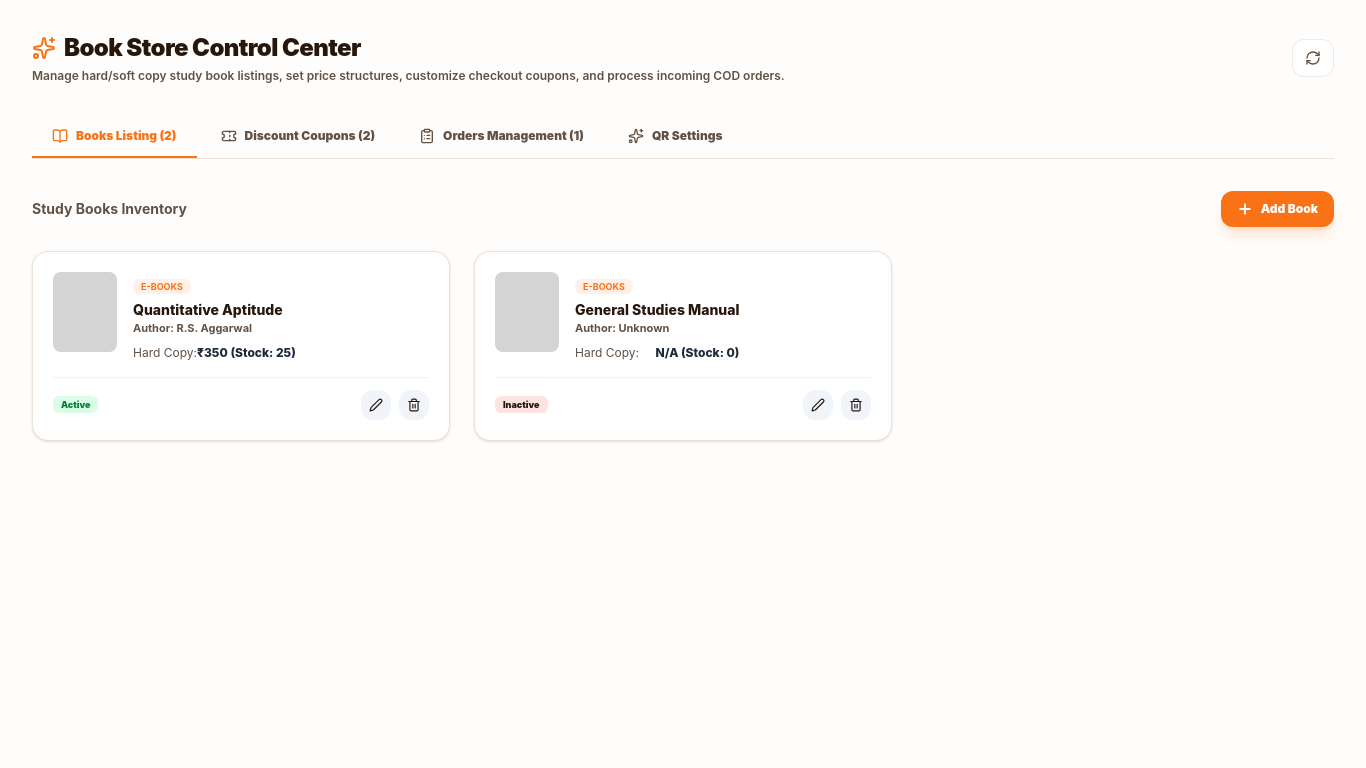
Scenario: BookStorePage › validates the add book form before submitting
The image size is (1366, 768).
Click the button "Add Book": {"x": 1277, "y": 209} [1221,191,1334,227]
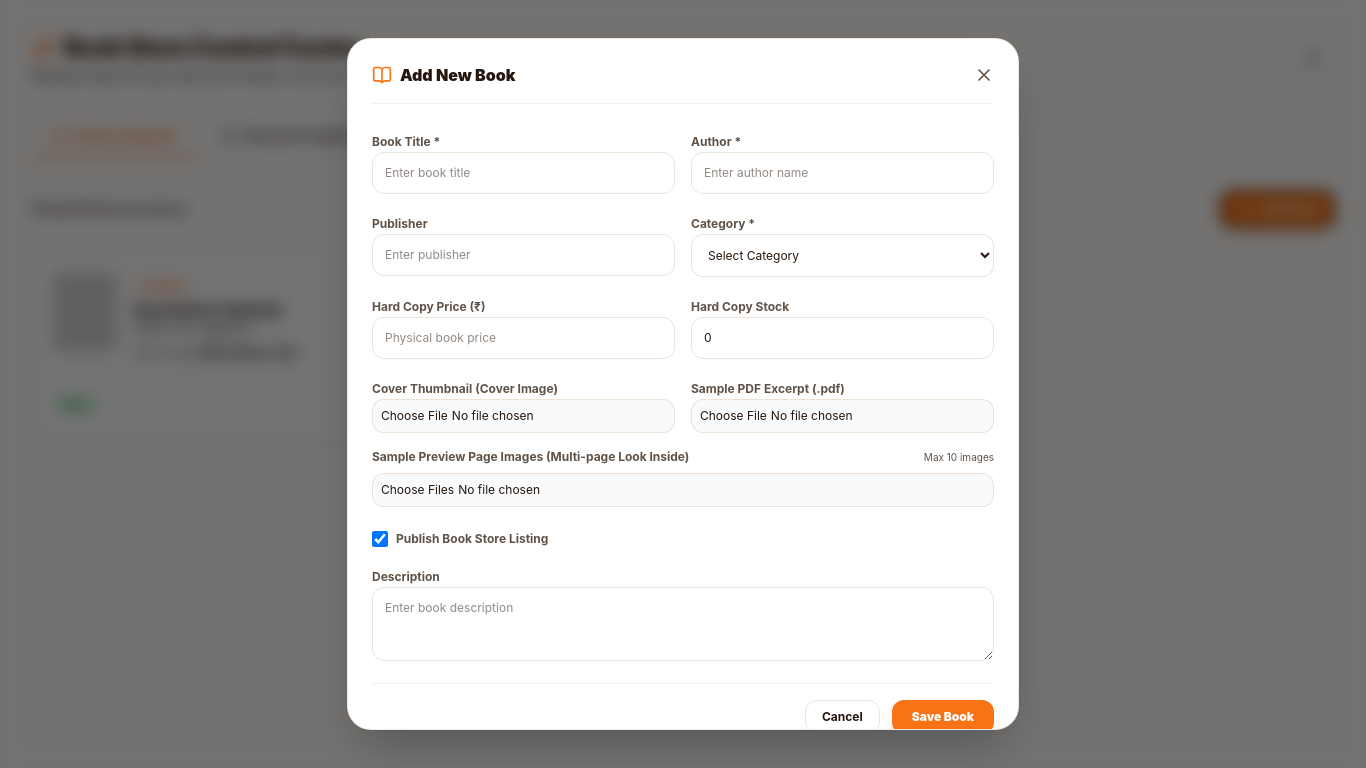
Now the heading "Add New Book" is shown, box [372,63,515,87]
Click the button "Save Book": {"x": 943, "y": 717} [892,700,994,734]
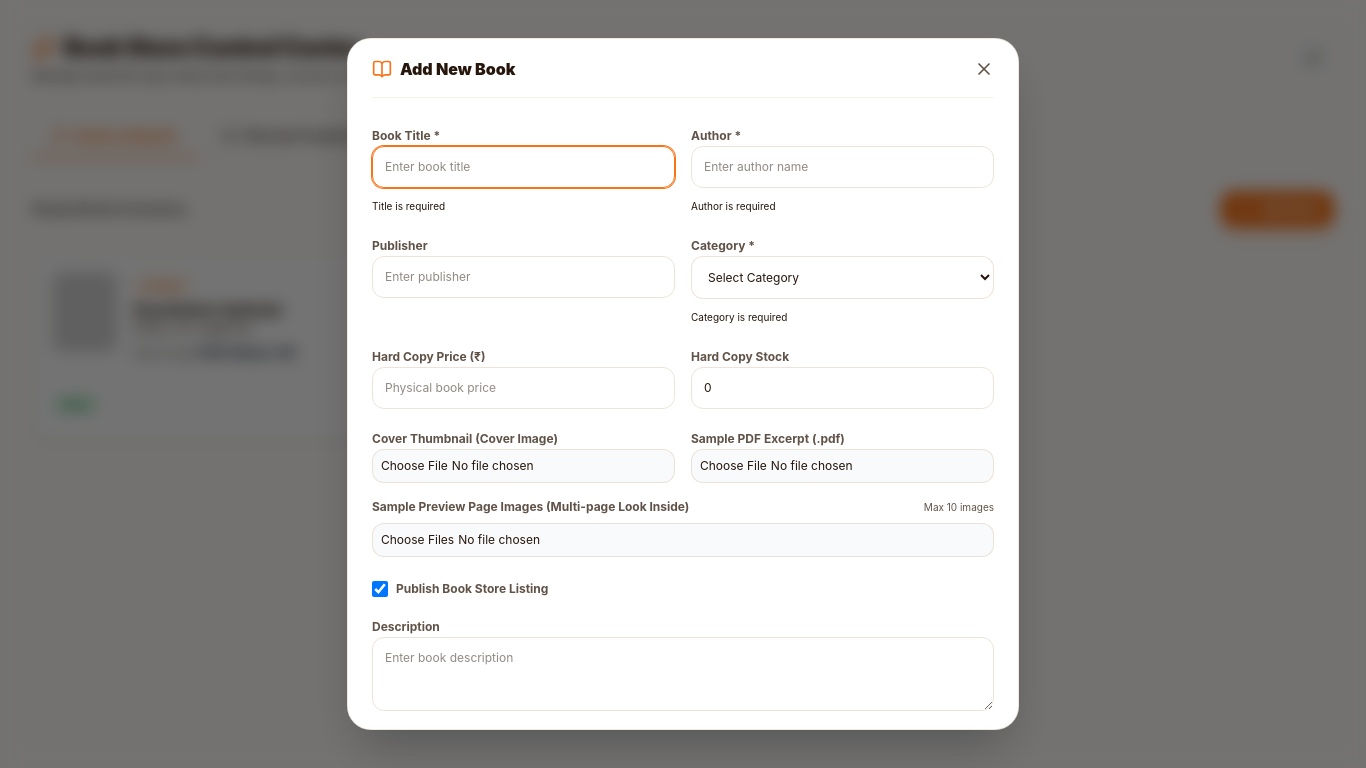
Now the text "Title is required" is shown, box [372,200,445,212]
Now the text "Author is required" is shown, box [691,200,776,212]
Now the text "Category is required" is shown, box [691,311,787,323]
